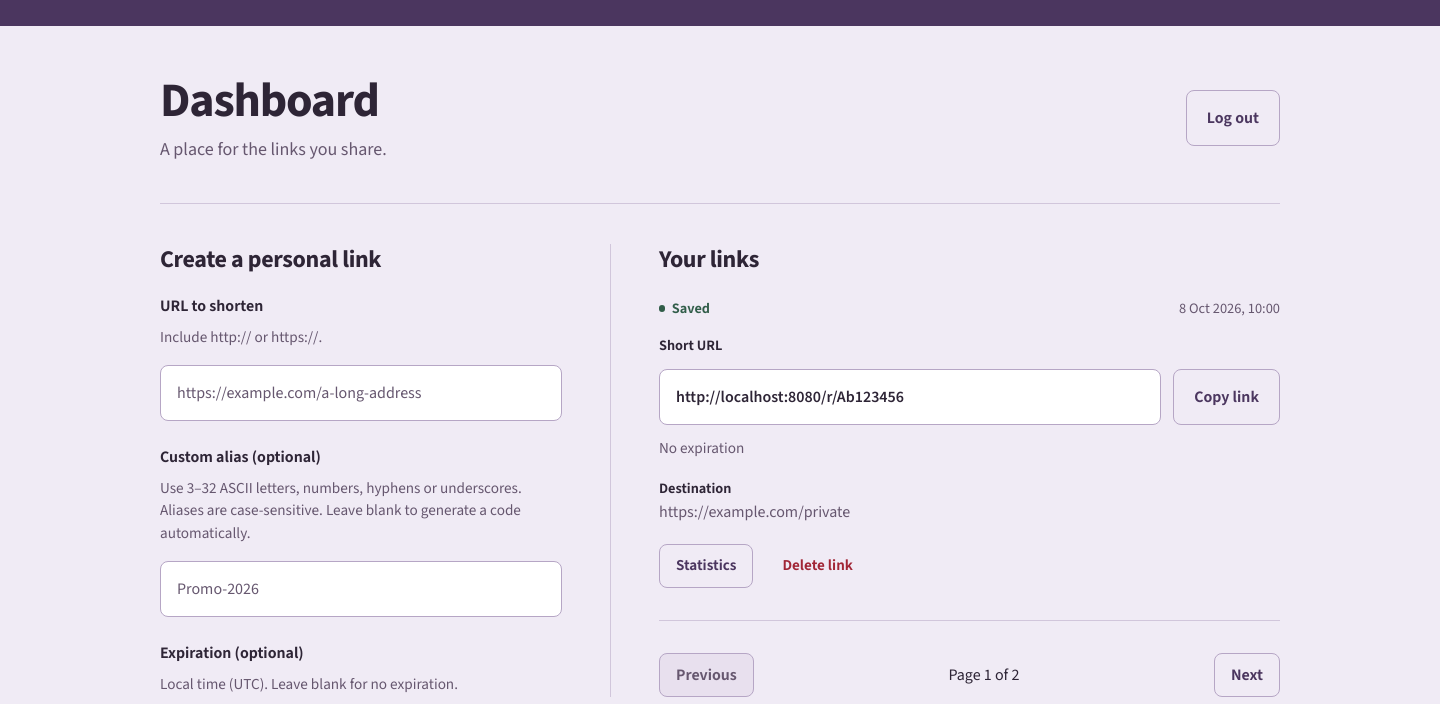
Test: torna alla prima pagina dopo la creazione e distingue un errore di aggiornamento
Check: the text "Page 1 of 2" is shown, box x1=948 y1=663 x2=1019 y2=687
Step 1. Click the button "Next" → coordinates (1247, 675), box x1=1214 y1=653 x2=1280 y2=697
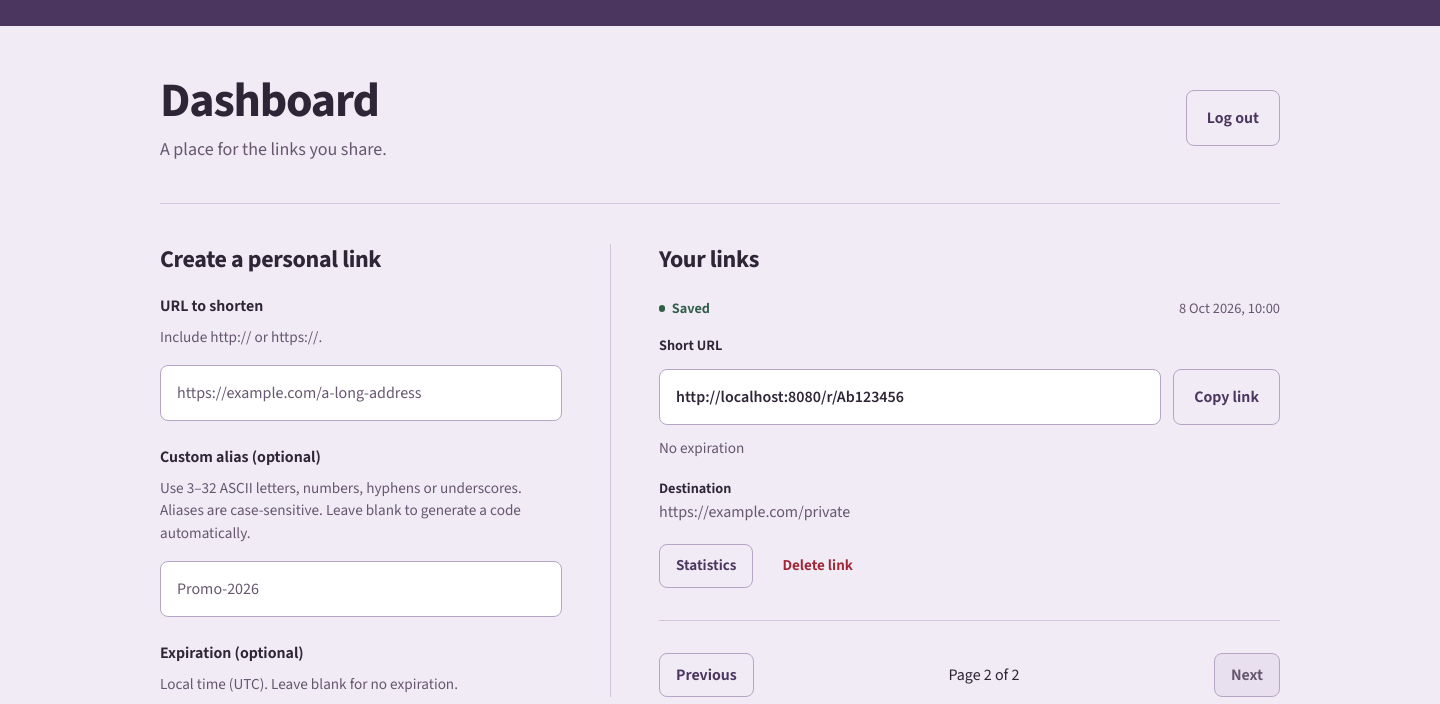
Check: the text "Page 2 of 2" is shown, box x1=948 y1=663 x2=1019 y2=687
Step 2. Type "https://example.com/private" into the field labelled "URL to shorten" → coordinates (361, 392), box x1=160 y1=364 x2=562 y2=420
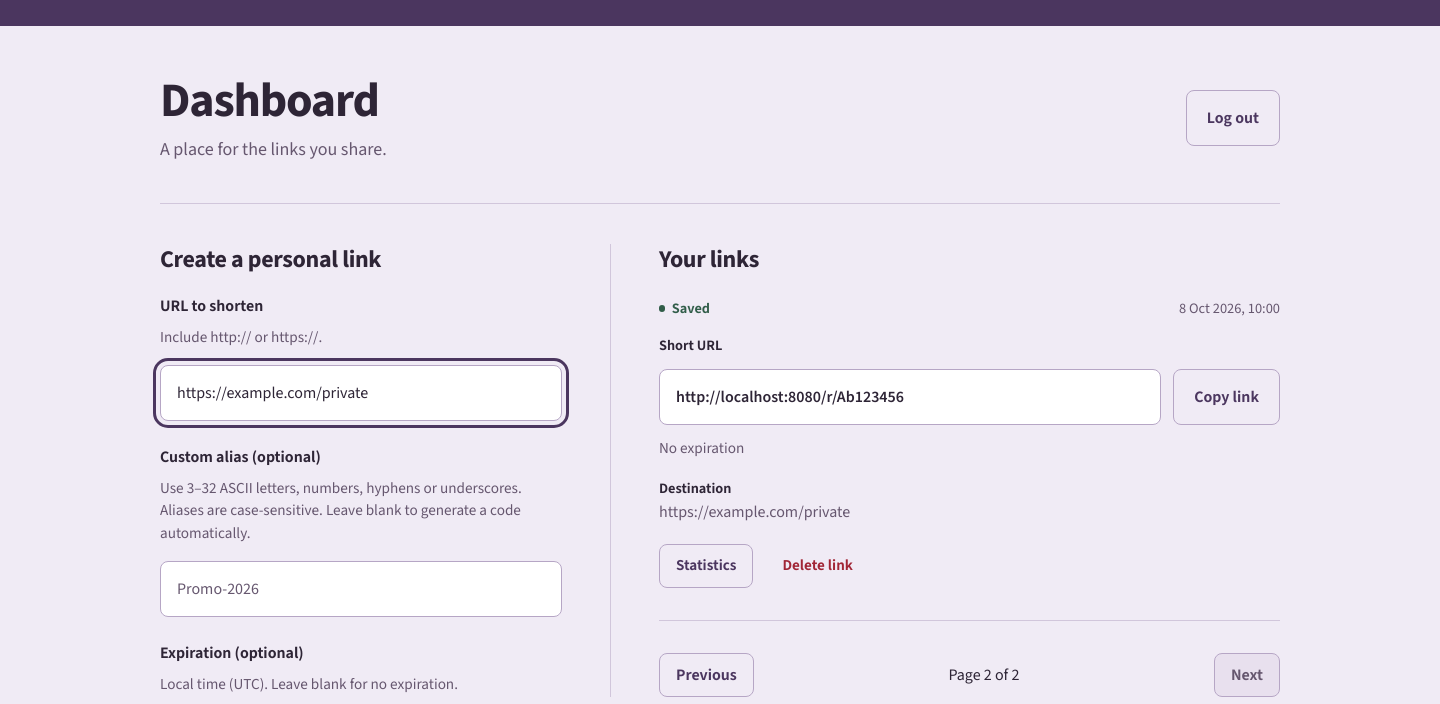
Step 3. Type "Personal-Promo" into the field labelled "Custom alias (optional)" → coordinates (361, 589), box x1=160 y1=561 x2=562 y2=617
(page scrolled)
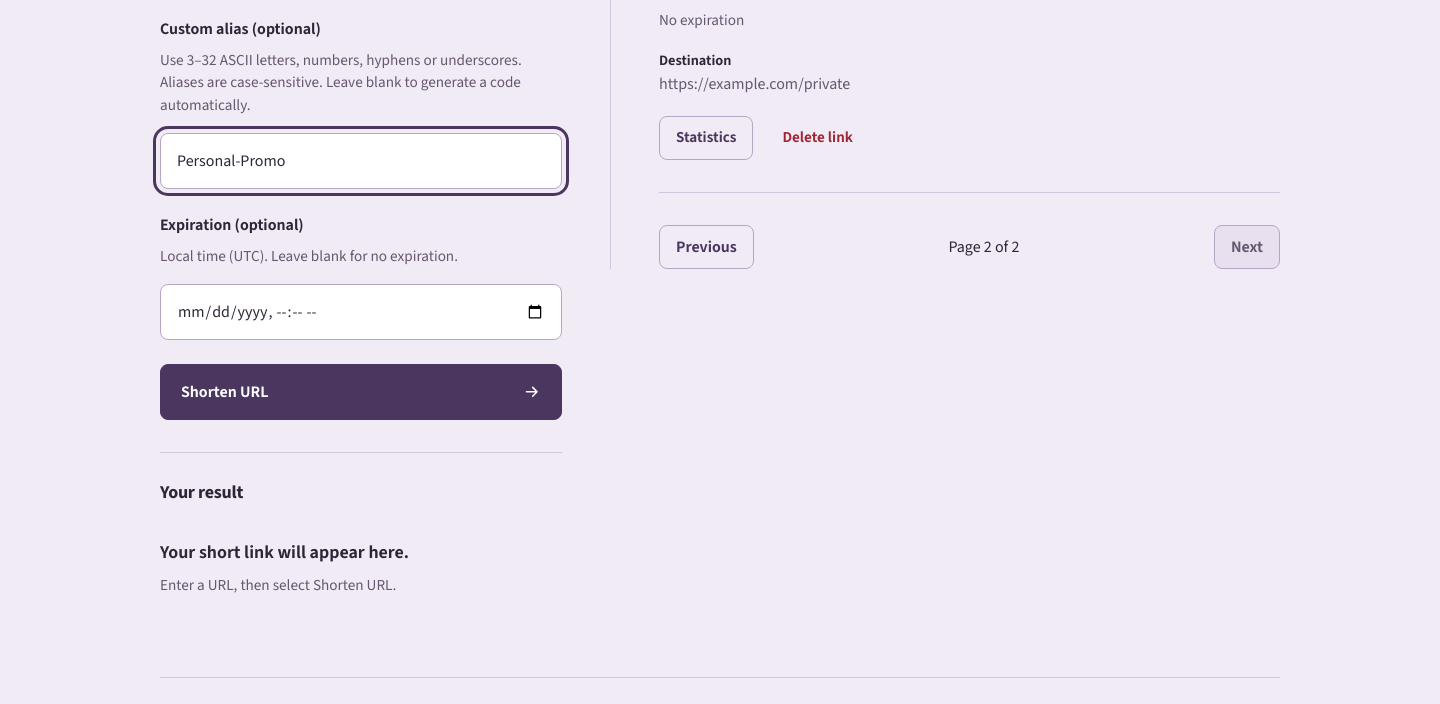
Step 4. Click the button "Shorten URL" → coordinates (225, 391), box x1=160 y1=364 x2=562 y2=420
(page scrolled)
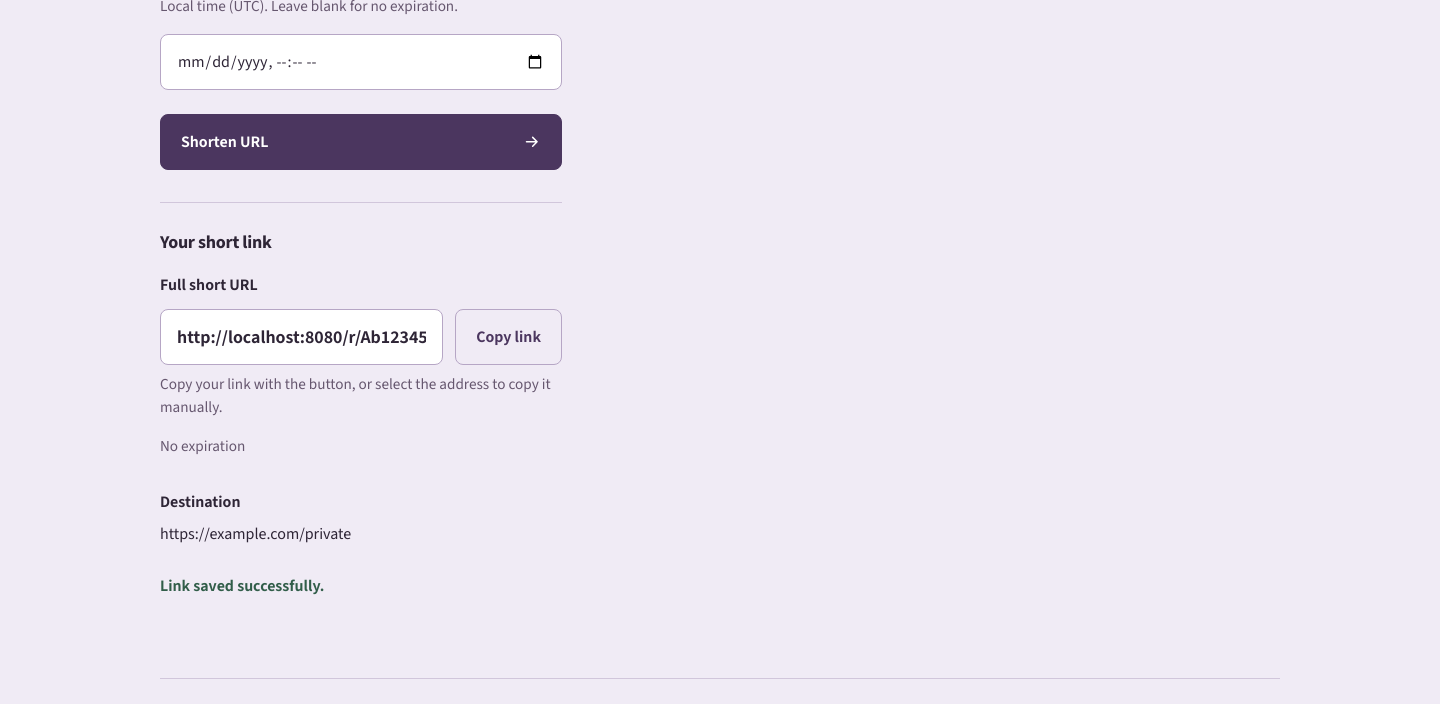
Check: the text "Link saved successfully." is shown, box x1=160 y1=575 x2=324 y2=596
